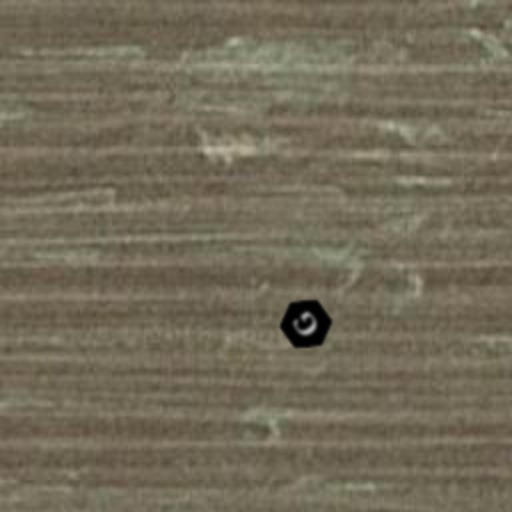hexagon: (266, 284, 346, 364)
